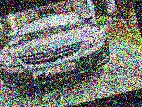car: (0, 0, 122, 103)
